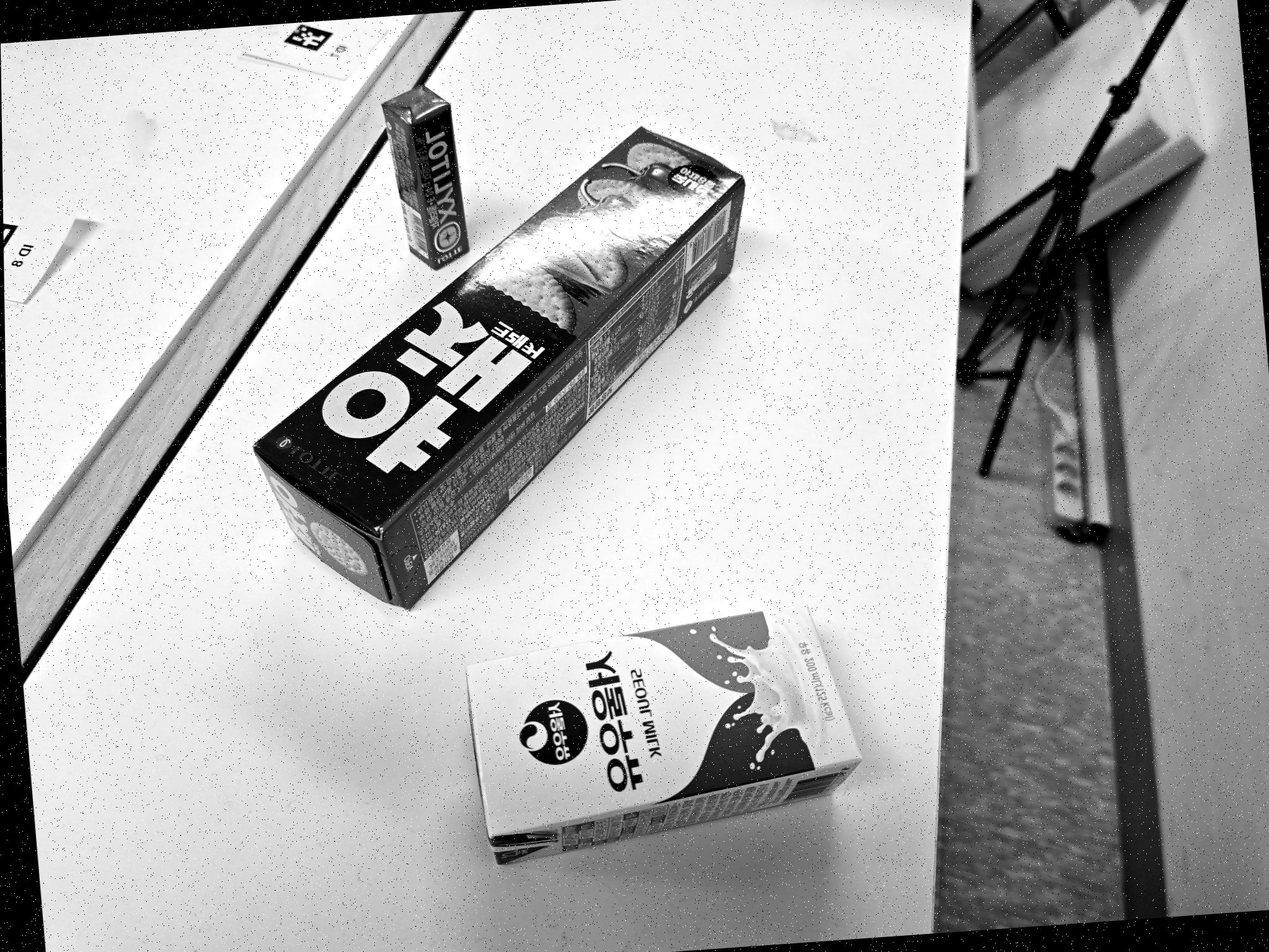cracker_vege: (254, 127, 744, 607)
gum_green: (382, 85, 469, 268)
milk_green: (469, 605, 861, 863)
